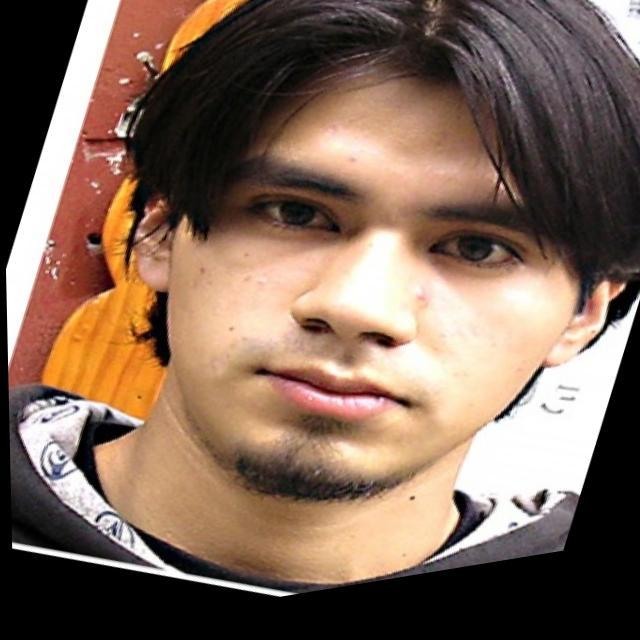Nonhelmet: (98, 0, 623, 508)
